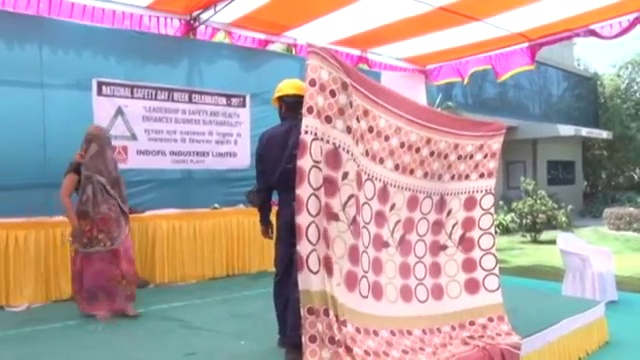helmet: (270, 77, 307, 103)
helmet_off: (81, 118, 112, 156)
helmet_on: (269, 77, 307, 123)
person: (57, 117, 143, 320), (249, 76, 305, 360)
